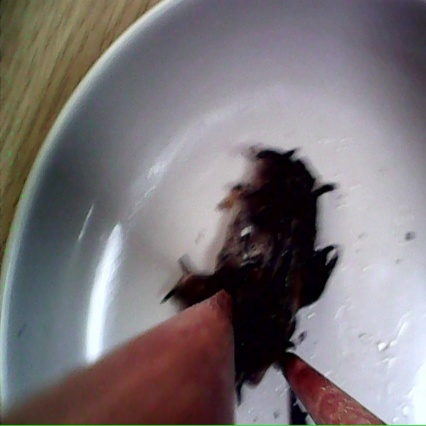black_hijiki: (173, 178, 373, 406)
